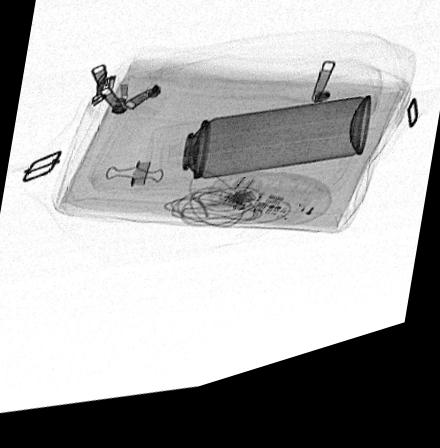Sprayer: (148, 117, 371, 191)
